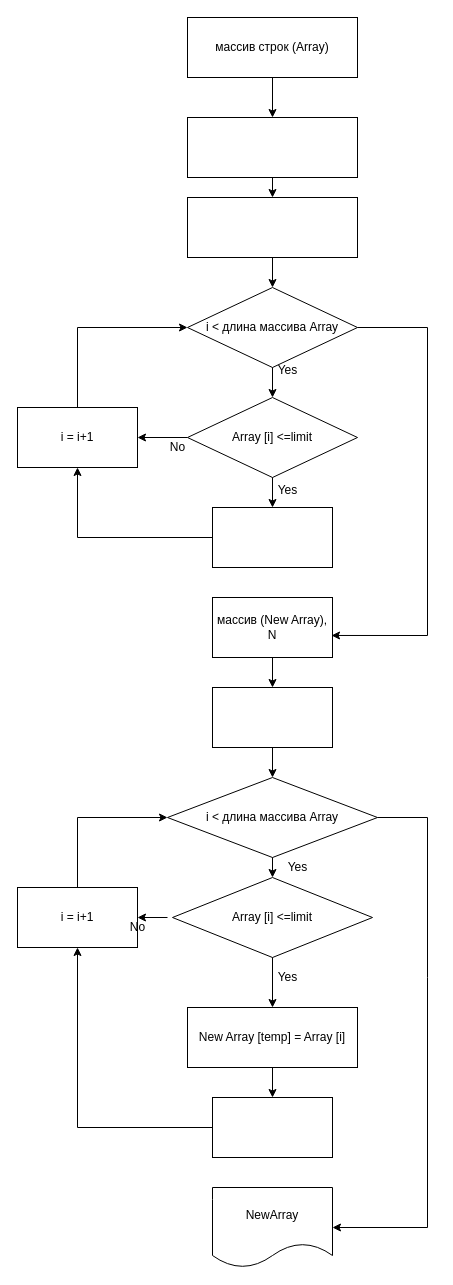
Image size: 453x1285. Some labels were removed from this diagram. The shapes that lost their labels are listed below. From the top down, each one's centre as x and y in pixels, then its label:
At point (272, 147): "limit = 3".
At point (272, 227): "N = 0 i = 0".
At point (272, 537): "N =N+1".
At point (272, 717): "temp =0 i = 0".
At point (272, 1127): "temp =temp+1".
